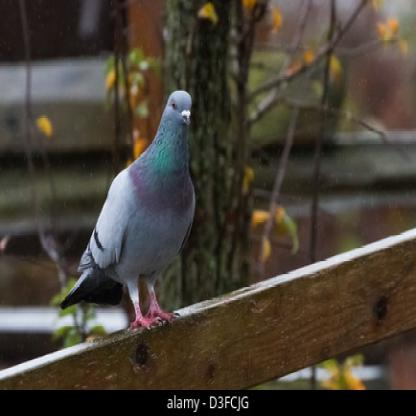Flying Rat: (75, 84, 197, 339)
